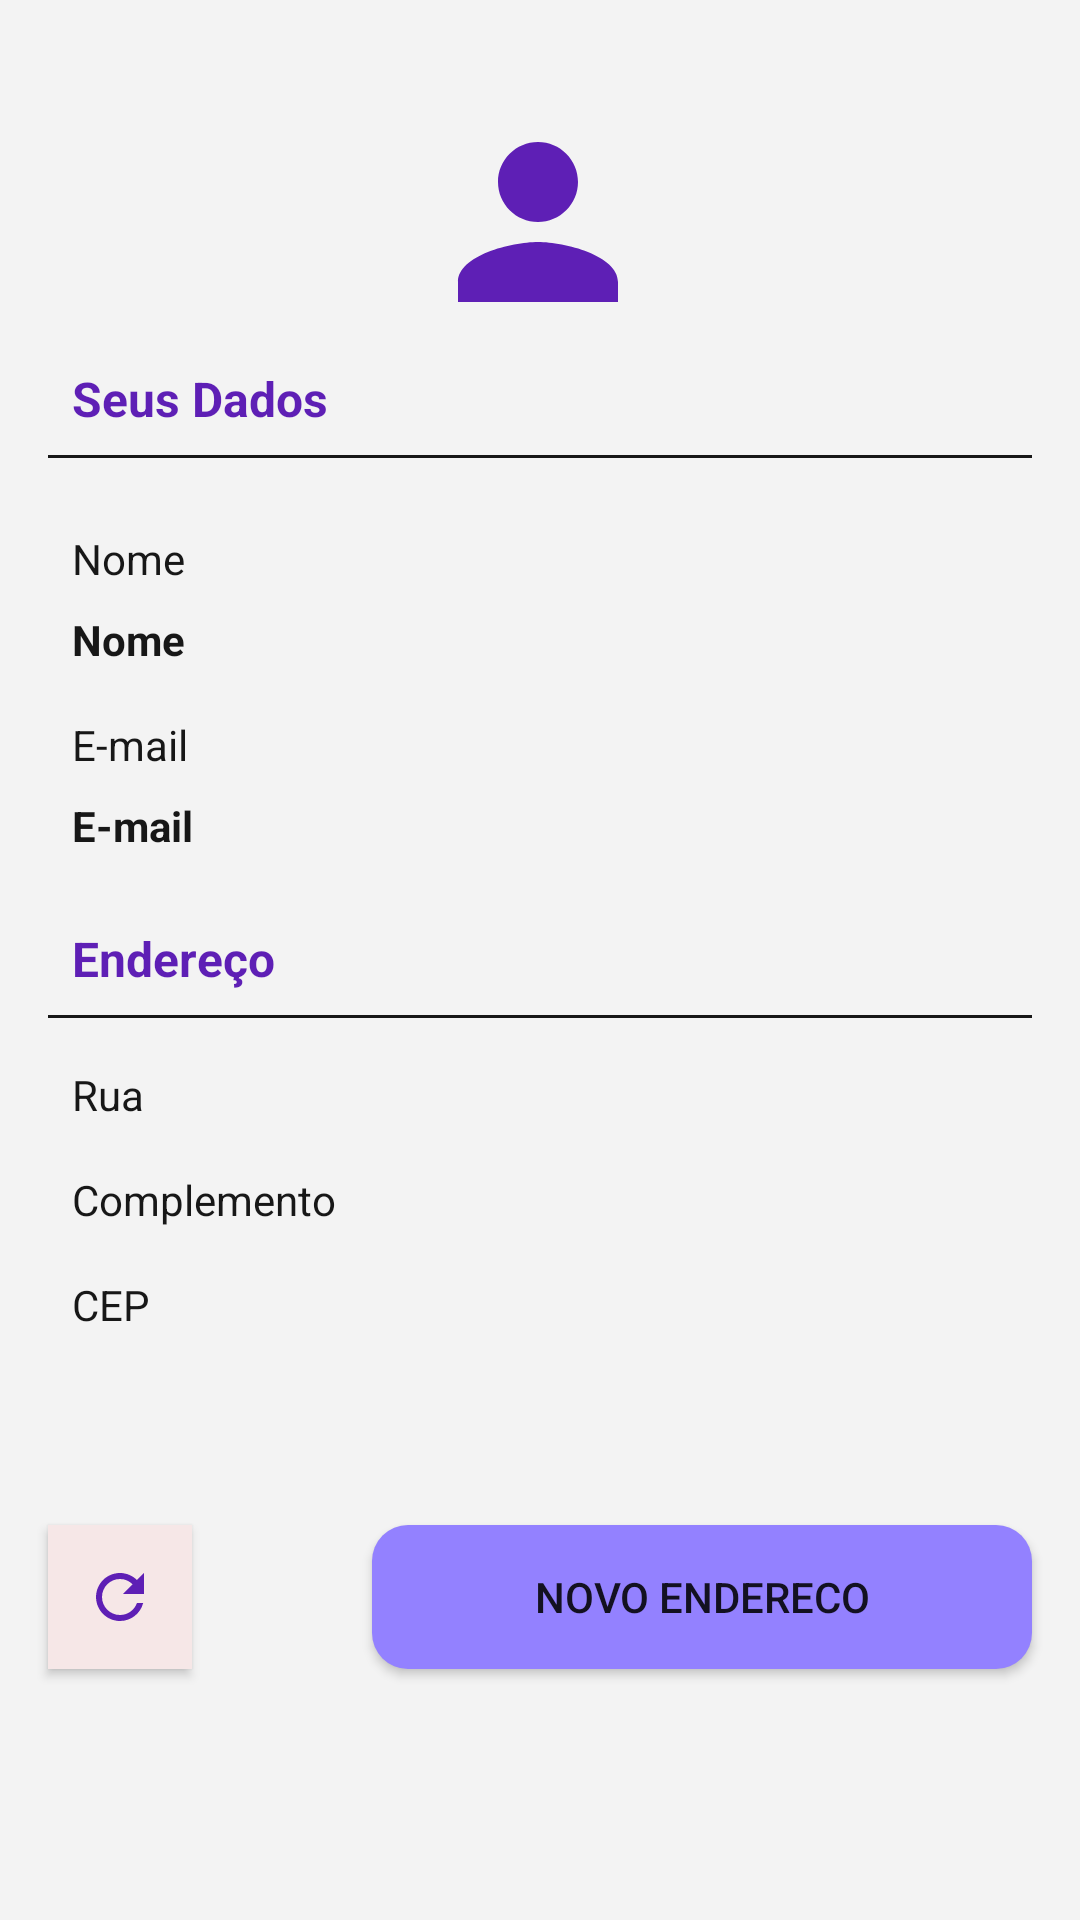

Icons on this 1080w x 1920h Android screen, each with the point to tap as (x,y):
atualizar: (120,1597)
user roxo: (538,222)
